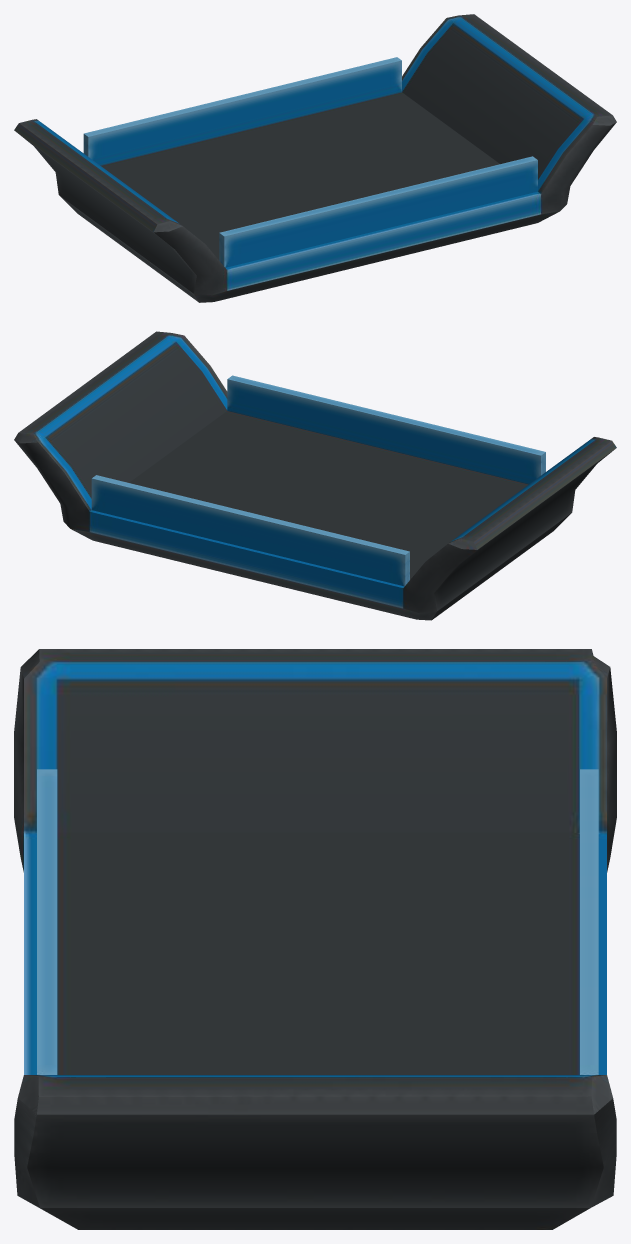
Rendered from CARROMACAS.fbx.
3 renders of one model, top to bottom at view 1: azimuth 30°, elevation 25°; view 2: azimuth 150°, elevation 25°; view 3: azimuth 270°, elevation 25°, orthographic. The views are drawn at different scales.
Parts seen in each view (by area): view 1: pCube1; view 2: pCube1; view 3: pCube1.
Boxes of the visible parts, x1,y1,x2,y2 form: pCube1: (14,14,616,302); pCube1: (14,331,616,620); pCube1: (14,649,616,1229).
Size of the model in its own units: 4.49 by 0.9002 by 2.54.
Materials: 1 (1 with a texture image).
